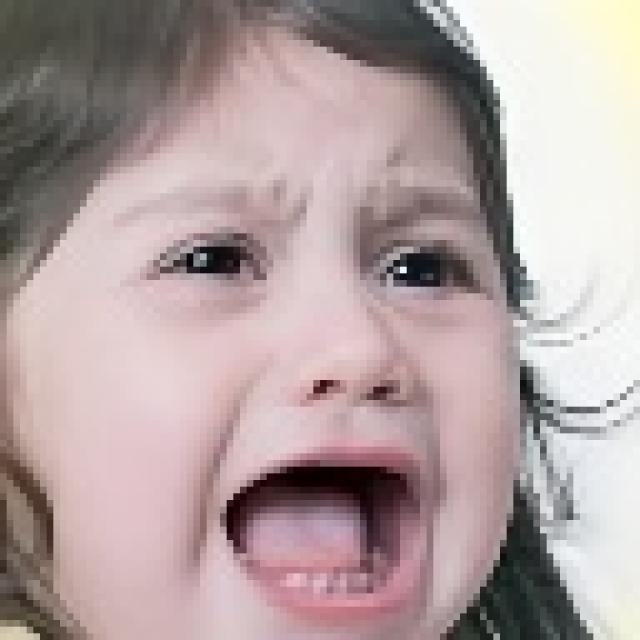sad: (0, 0, 547, 640)
